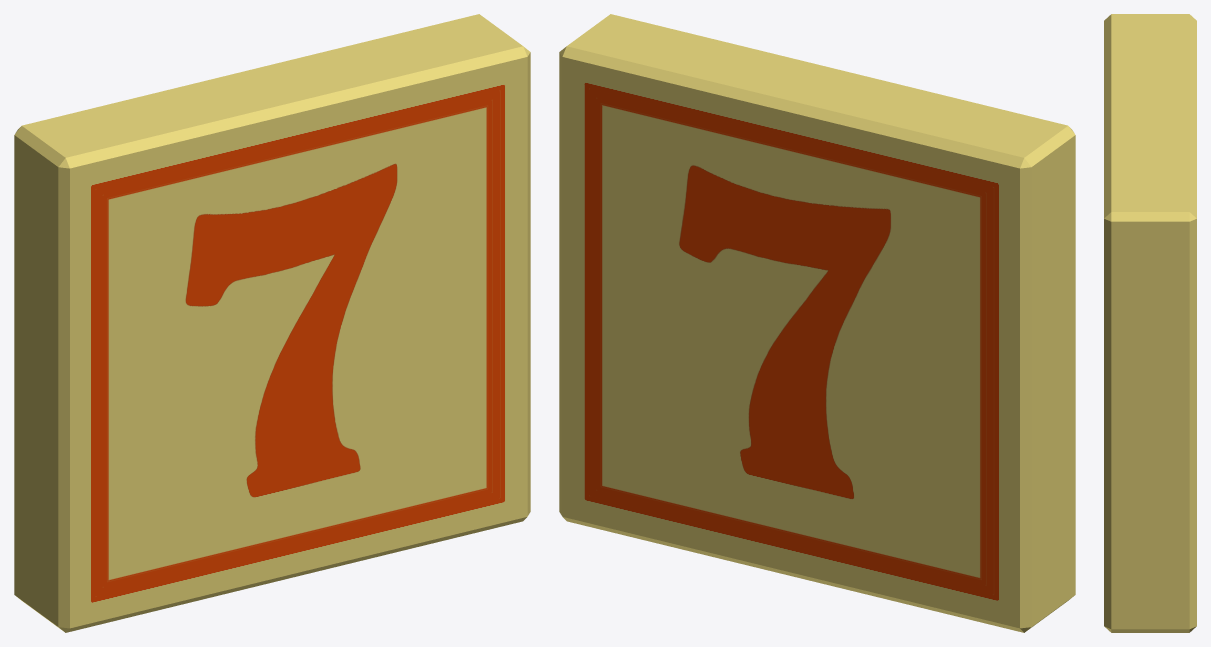
File: Number_7.FBX
3 renders of one model, left to right at view 1: azimuth 30°, elevation 25°; view 2: azimuth 150°, elevation 25°; view 3: azimuth 270°, elevation 25°, orthographic. The views are drawn at different scales.
Parts seen in each view (by area): view 1: Number_7; view 2: Number_7; view 3: Number_7.
Boxes of the visible parts, x1=… form: Number_7: x1=14, y1=14, x2=530, y2=632; Number_7: x1=559, y1=14, x2=1075, y2=632; Number_7: x1=1104, y1=14, x2=1196, y2=632.
Bounding box in the file's own units: 180 × 173 × 34.67.
